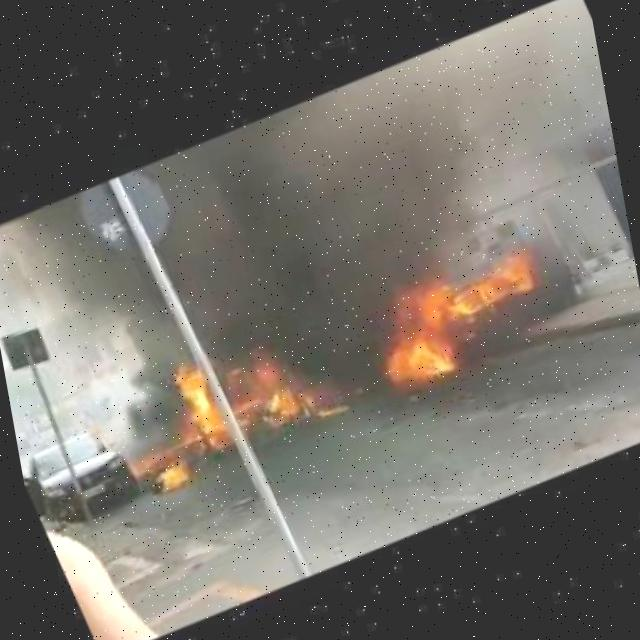fire: (354, 236, 562, 402), (165, 361, 231, 463), (252, 379, 315, 435), (152, 461, 199, 502), (314, 400, 351, 425)
